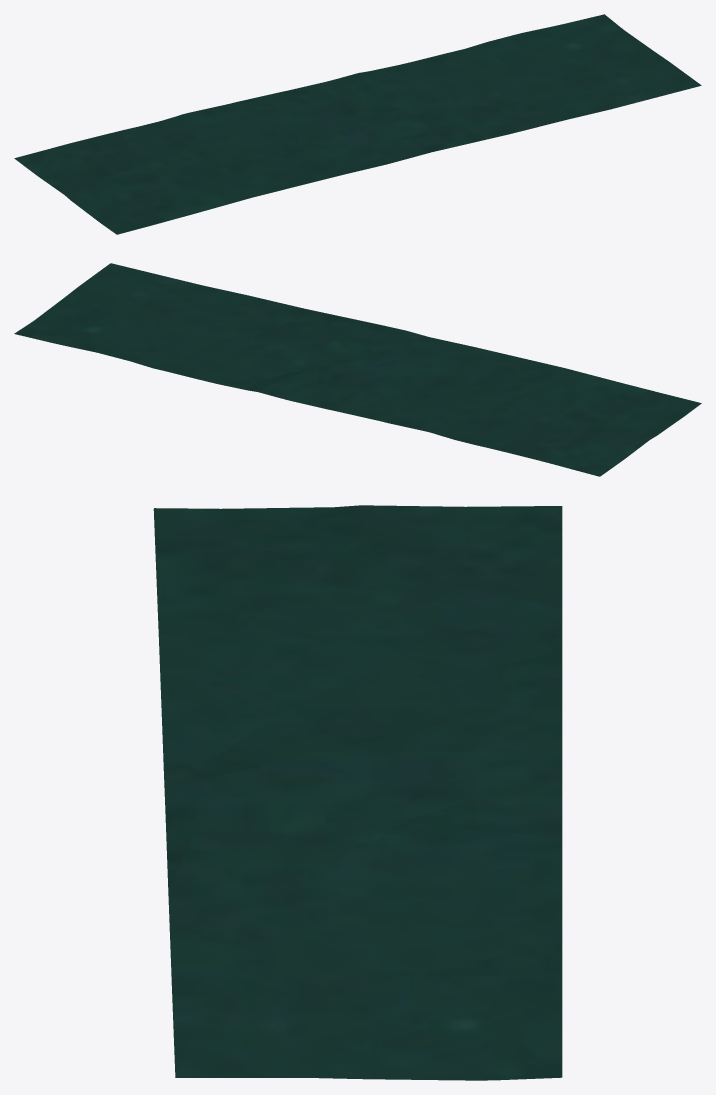
3 views of the same model, one above another, from view 1: azimuth 30°, elevation 25°; view 2: azimuth 150°, elevation 25°; view 3: azimuth 270°, elevation 25° (orthographic). The views are drawn at different scales.
Size of the model in its own units: 52.22 by 0.4044 by 15.76.
Materials: 1 (1 with a texture image).
